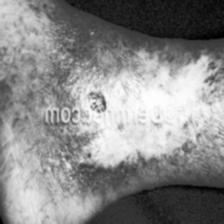Non-Cancerous Skin Condition: (0, 126, 172, 182), (1, 48, 178, 102), (178, 56, 224, 170)
